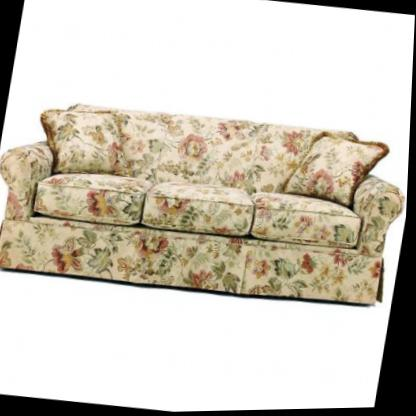Sofa: (0, 89, 413, 319)
